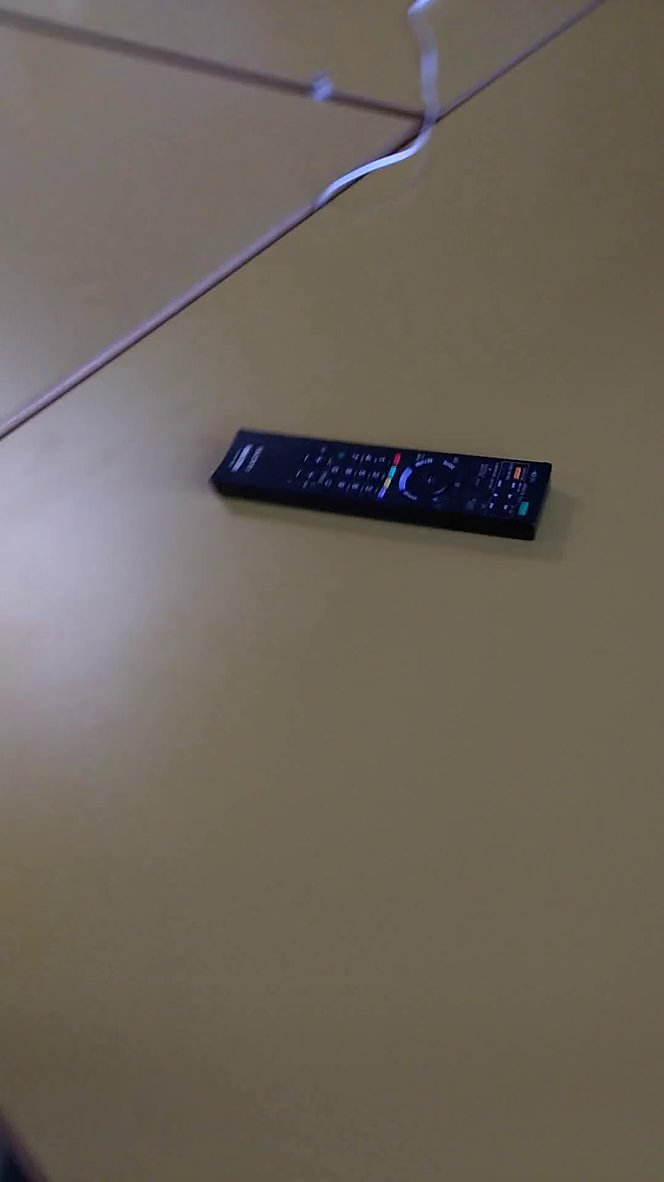remote: (192, 408, 573, 562)
